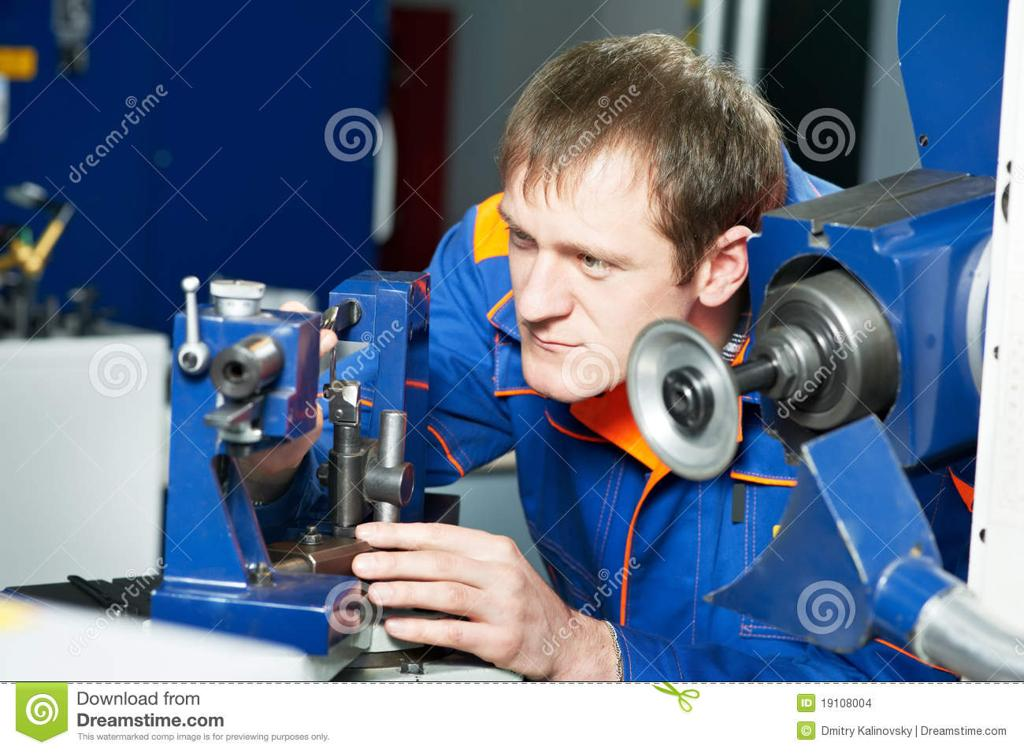face: (506, 124, 690, 388)
